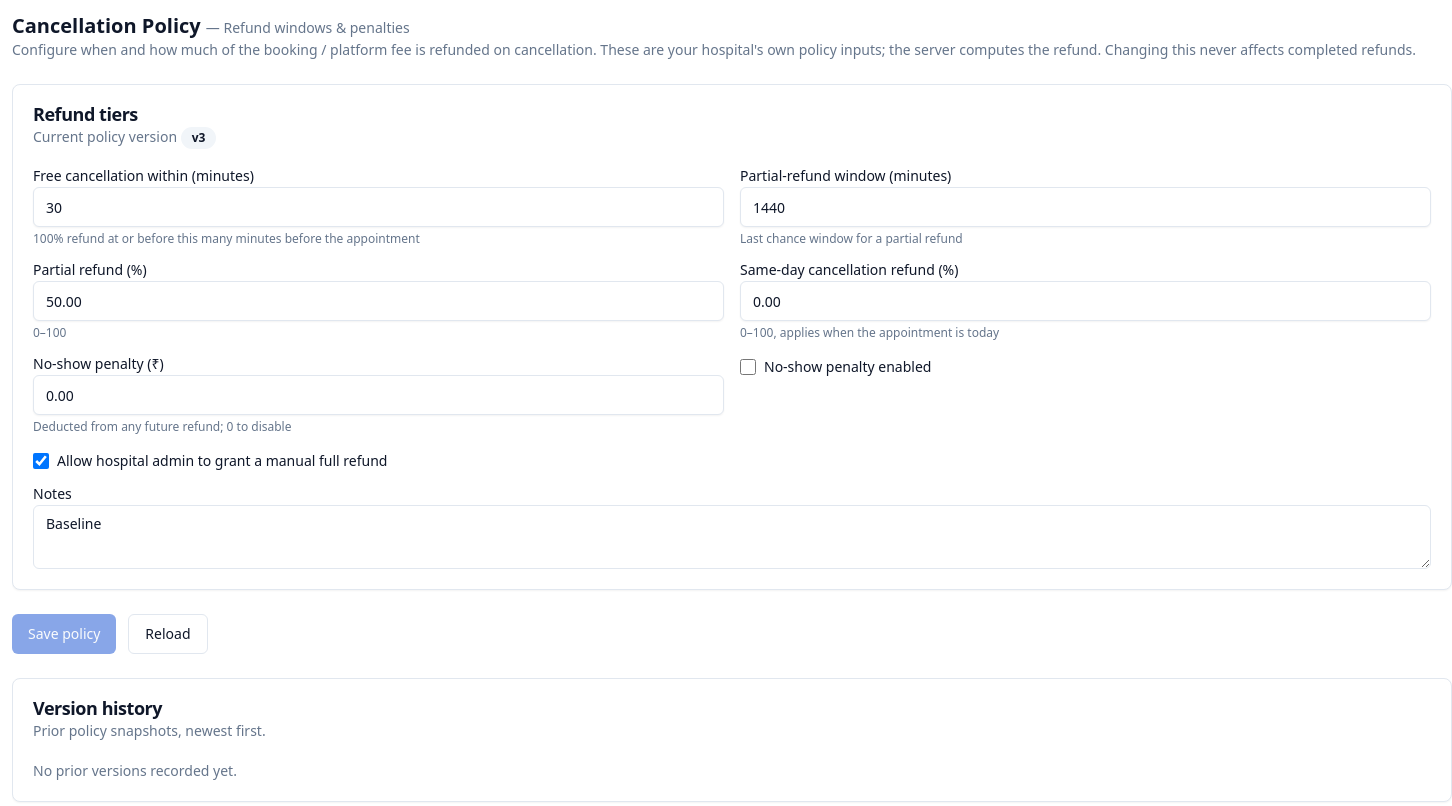
Scenario: renders an honest conflict error and never a fake success
Step 1. Replace the text in the field with test id "full-min" with "60" → point(378, 207), box [33,187,724,227]
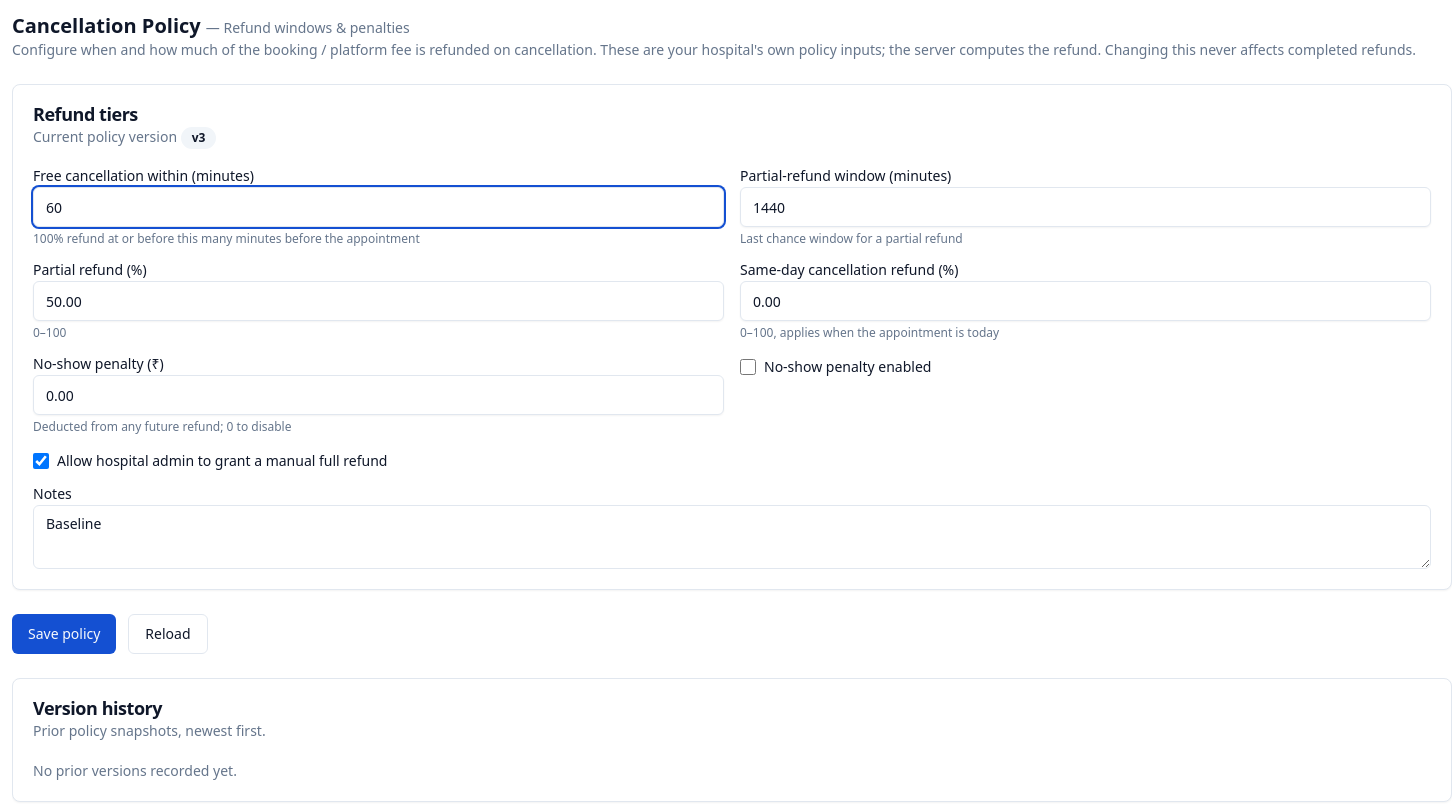
Step 2. Click the button with test id "save-btn" → point(64, 634), box [12,614,116,654]
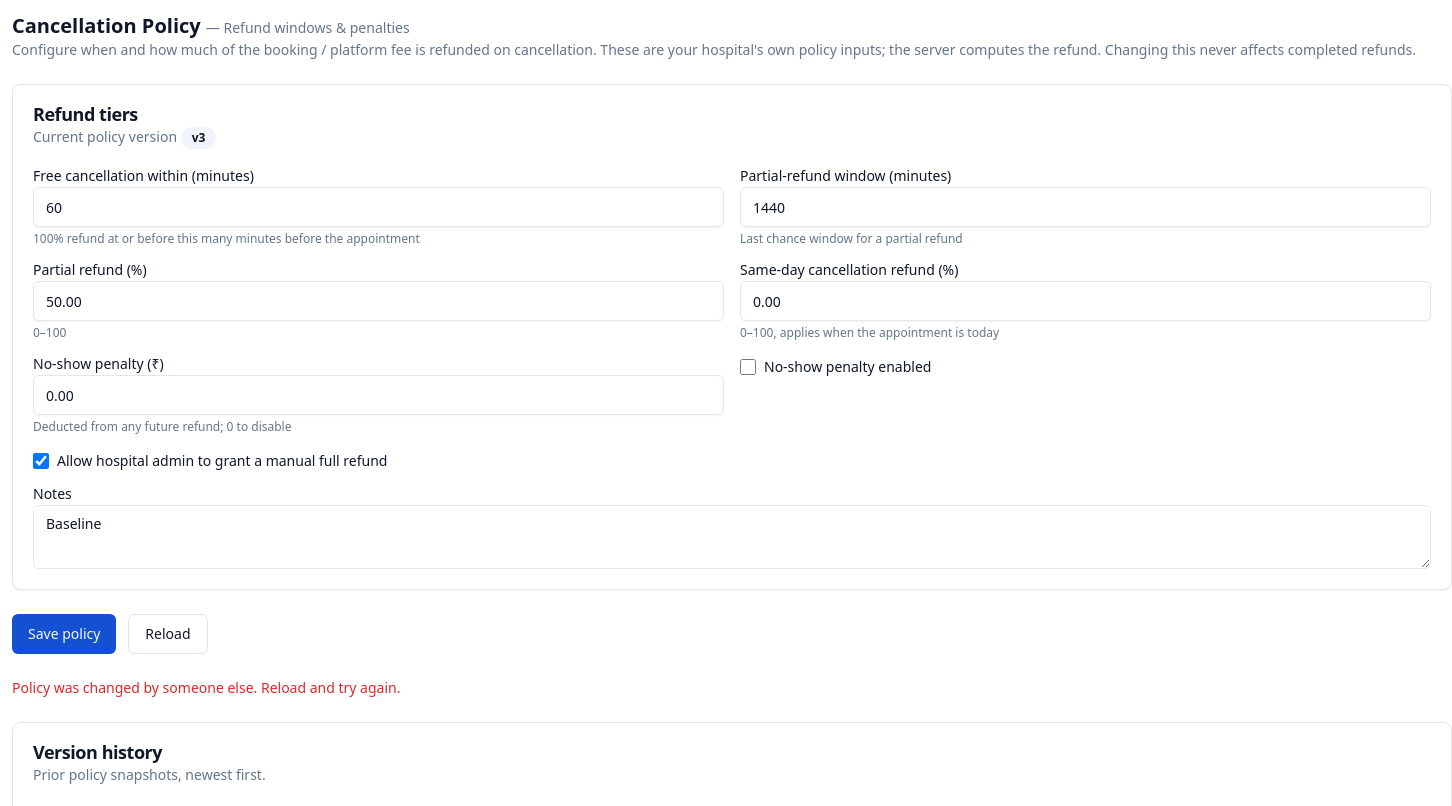
Expected: the text "Policy was changed by someone else. Reload and try again." is shown, [12,678,400,697]
